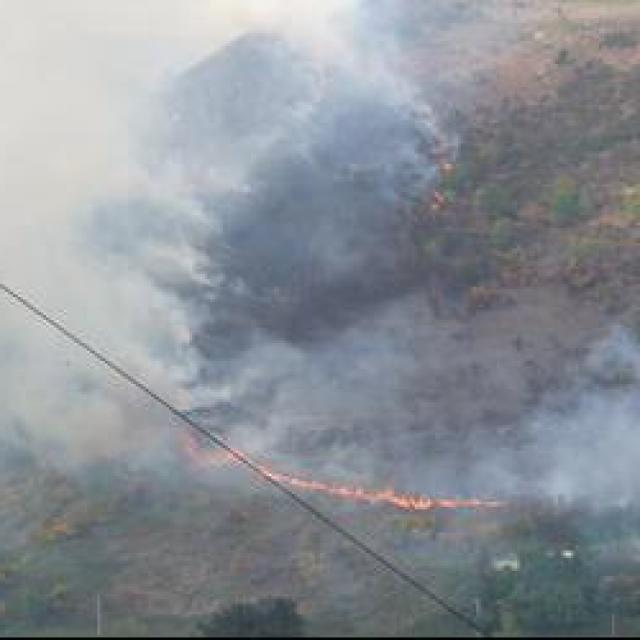smoke: (0, 182, 223, 472), (232, 306, 458, 442), (529, 330, 639, 556)
